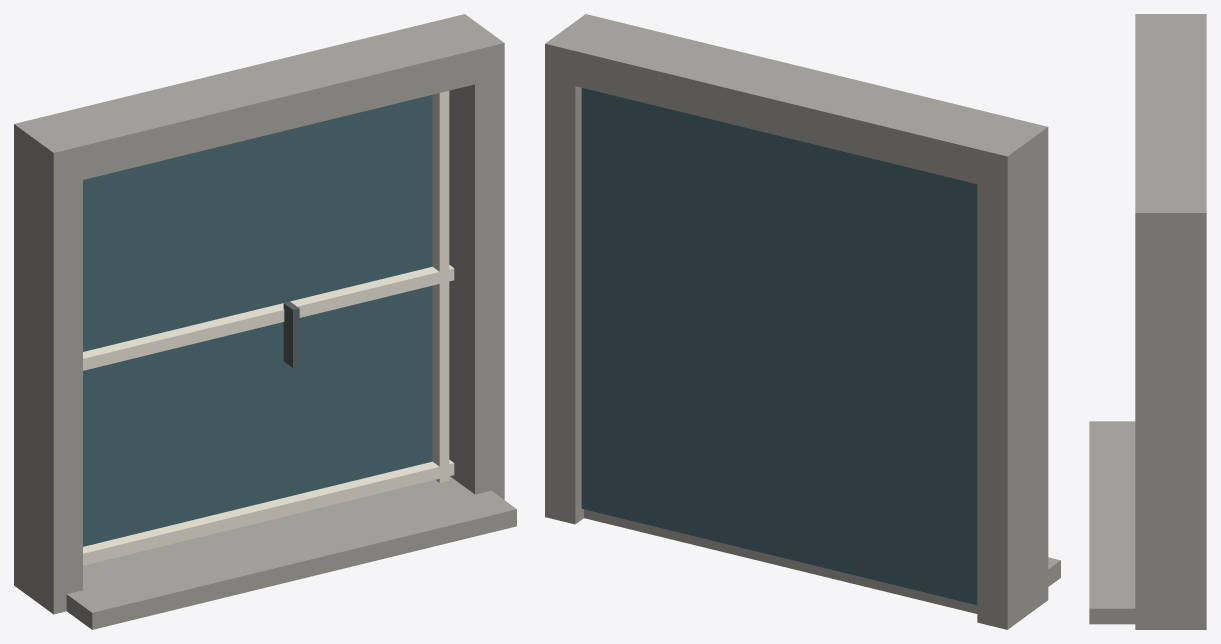
The picture shows the model from 3 angles, left to right: view 1: azimuth 30°, elevation 25°; view 2: azimuth 150°, elevation 25°; view 3: azimuth 270°, elevation 25°; orthographic projection. The views are drawn at different scales.
Visible parts, largest first — view 1: QH-A0035_V01_geometry; view 2: QH-A0035_V01_geometry; view 3: QH-A0035_V01_geometry.
Boxes of the visible parts, x1,y1,x2,y2 form: QH-A0035_V01_geometry: (14, 14, 516, 629); QH-A0035_V01_geometry: (545, 14, 1060, 629); QH-A0035_V01_geometry: (1089, 14, 1206, 629).
Size of the model in its own units: 2.76 by 2.7 by 0.69.
